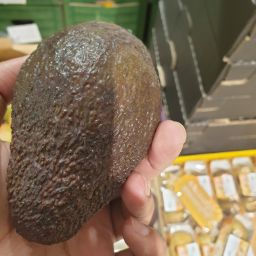Avocado: (5, 20, 170, 253), (13, 17, 169, 175), (3, 47, 125, 247), (24, 48, 160, 159)
